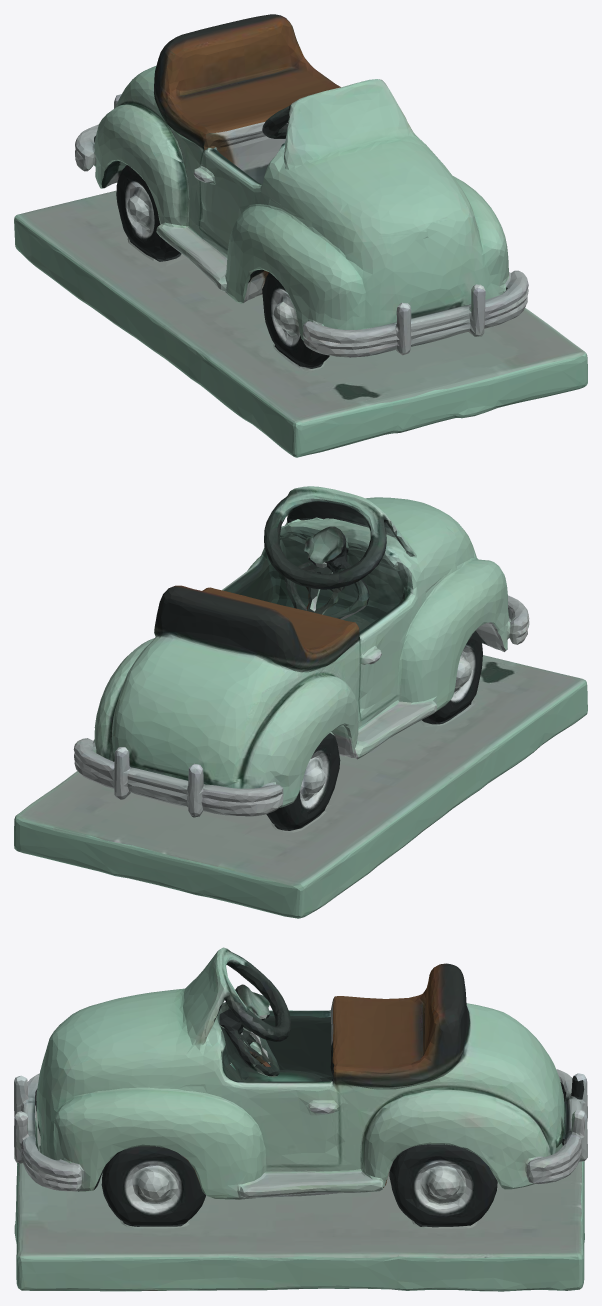
File: ride-car.glb
3 views of the same model, one above another, from view 1: azimuth 30°, elevation 25°; view 2: azimuth 150°, elevation 25°; view 3: azimuth 270°, elevation 25° (orthographic).
Parts seen in each view (by area): view 1: ride_car; view 2: ride_car; view 3: ride_car.
Part boxes in pixels (x1,y1,x2,y2): ride_car: (14,14,587,457); ride_car: (14,486,587,918); ride_car: (14,947,587,1291).
Size of the model in its own units: 0.7655 by 0.6518 by 1.3.
1 material, 1 textured.
